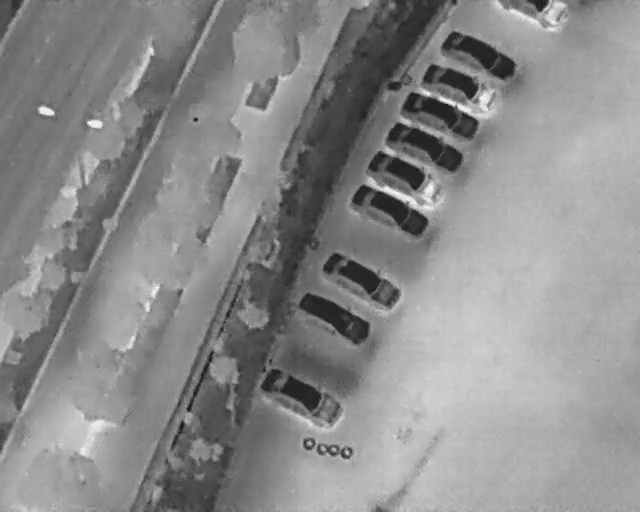Car: (251, 358, 350, 438), (311, 242, 410, 317), (287, 281, 379, 353), (360, 143, 450, 216), (343, 175, 435, 246), (381, 114, 469, 181), (435, 22, 522, 89), (397, 83, 485, 148), (416, 54, 502, 117), (495, 0, 570, 32)
